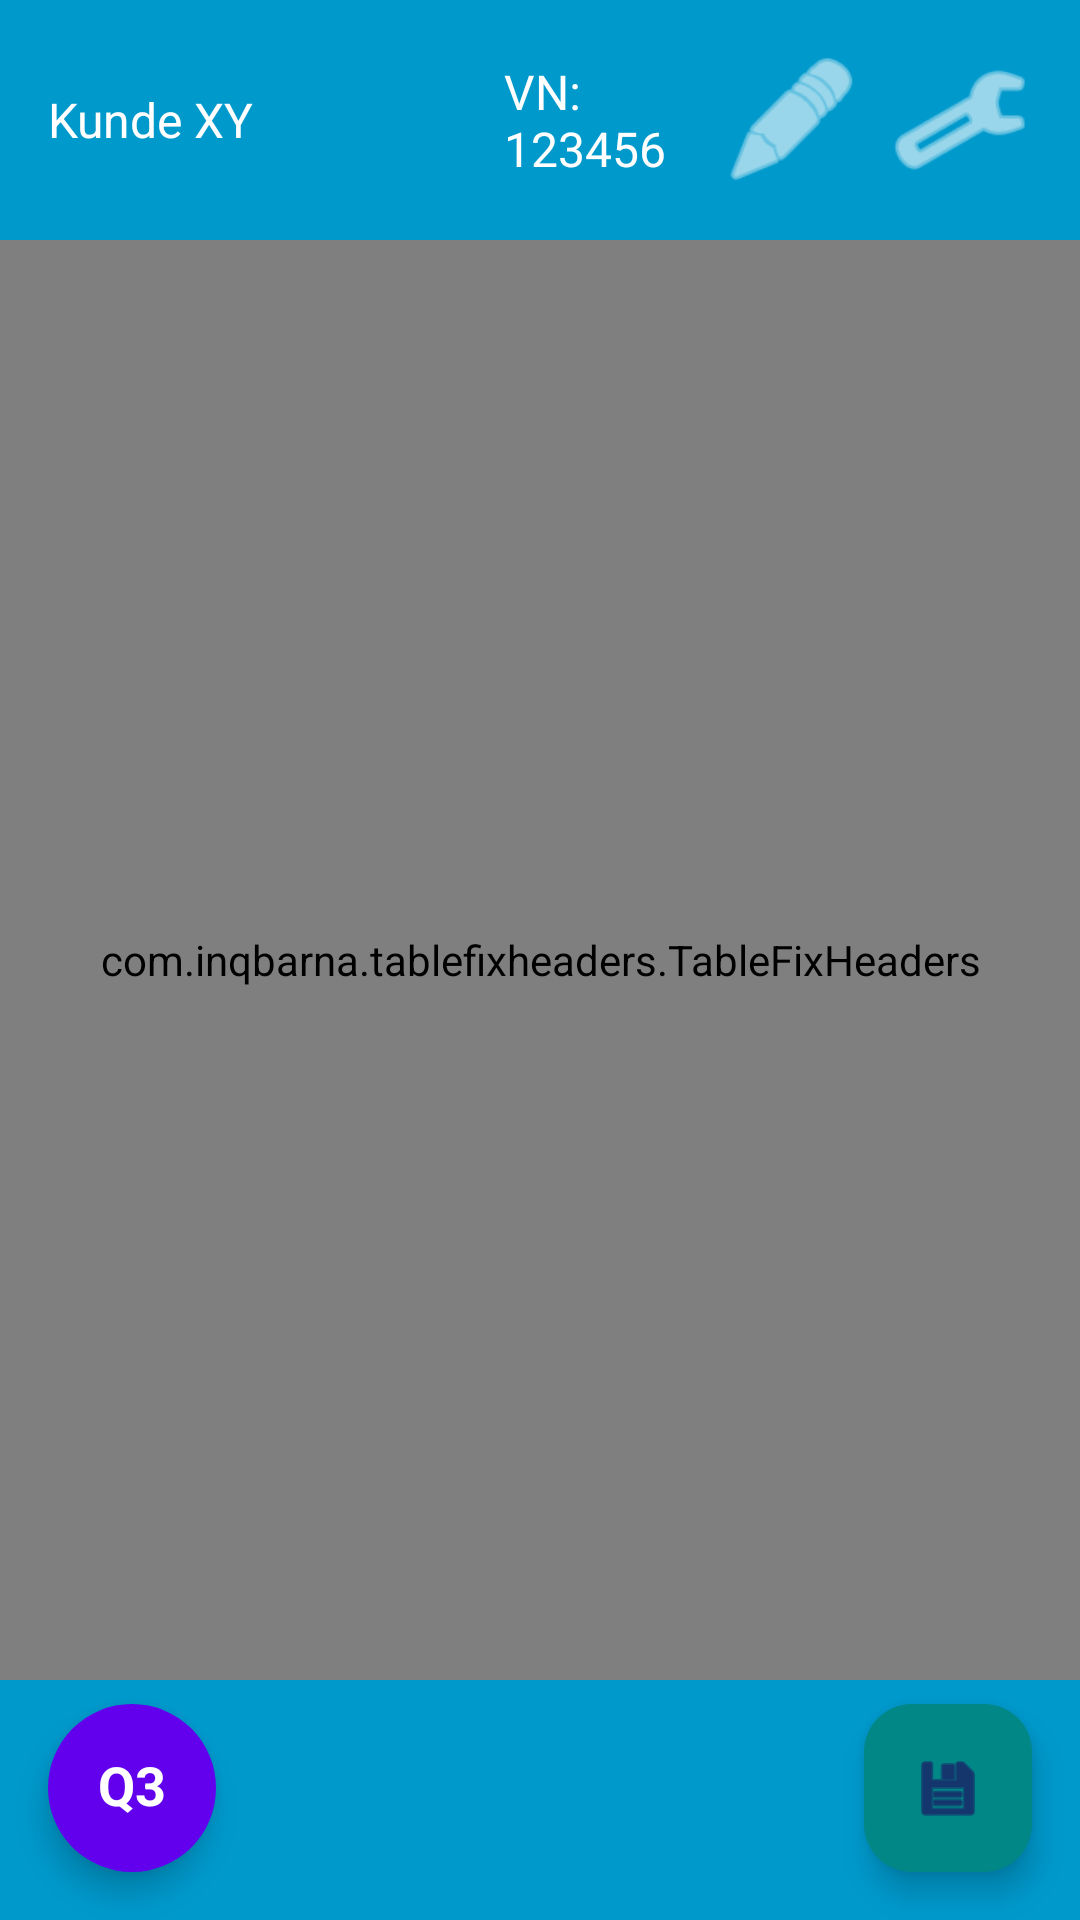

Icon bounding boxes for this 1080*1920 phone screenshot, format (x1, y1, x2, y2):
Bearbeiten: (730, 58, 852, 180)
save: (864, 1704, 1032, 1872)
